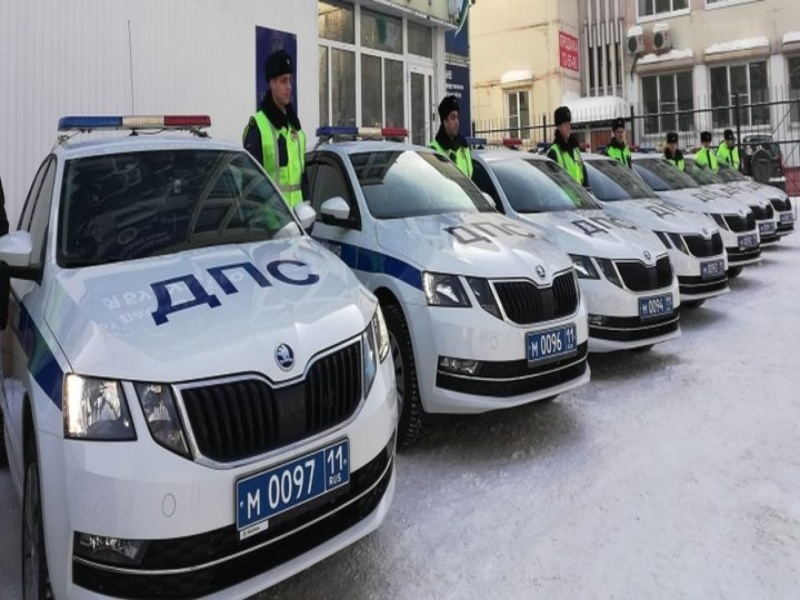car: (2, 114, 399, 560), (304, 126, 591, 451), (466, 139, 682, 353), (579, 151, 730, 301), (628, 151, 762, 268), (678, 157, 778, 247), (712, 158, 795, 238), (741, 135, 786, 187)
person: (244, 49, 309, 211), (428, 95, 472, 182), (547, 107, 588, 190), (604, 117, 632, 170), (718, 129, 739, 170), (695, 131, 717, 170), (663, 131, 684, 171)
plate: (236, 439, 347, 528), (525, 323, 576, 361), (639, 293, 672, 317), (702, 261, 724, 277), (739, 234, 756, 247), (759, 222, 774, 233)
